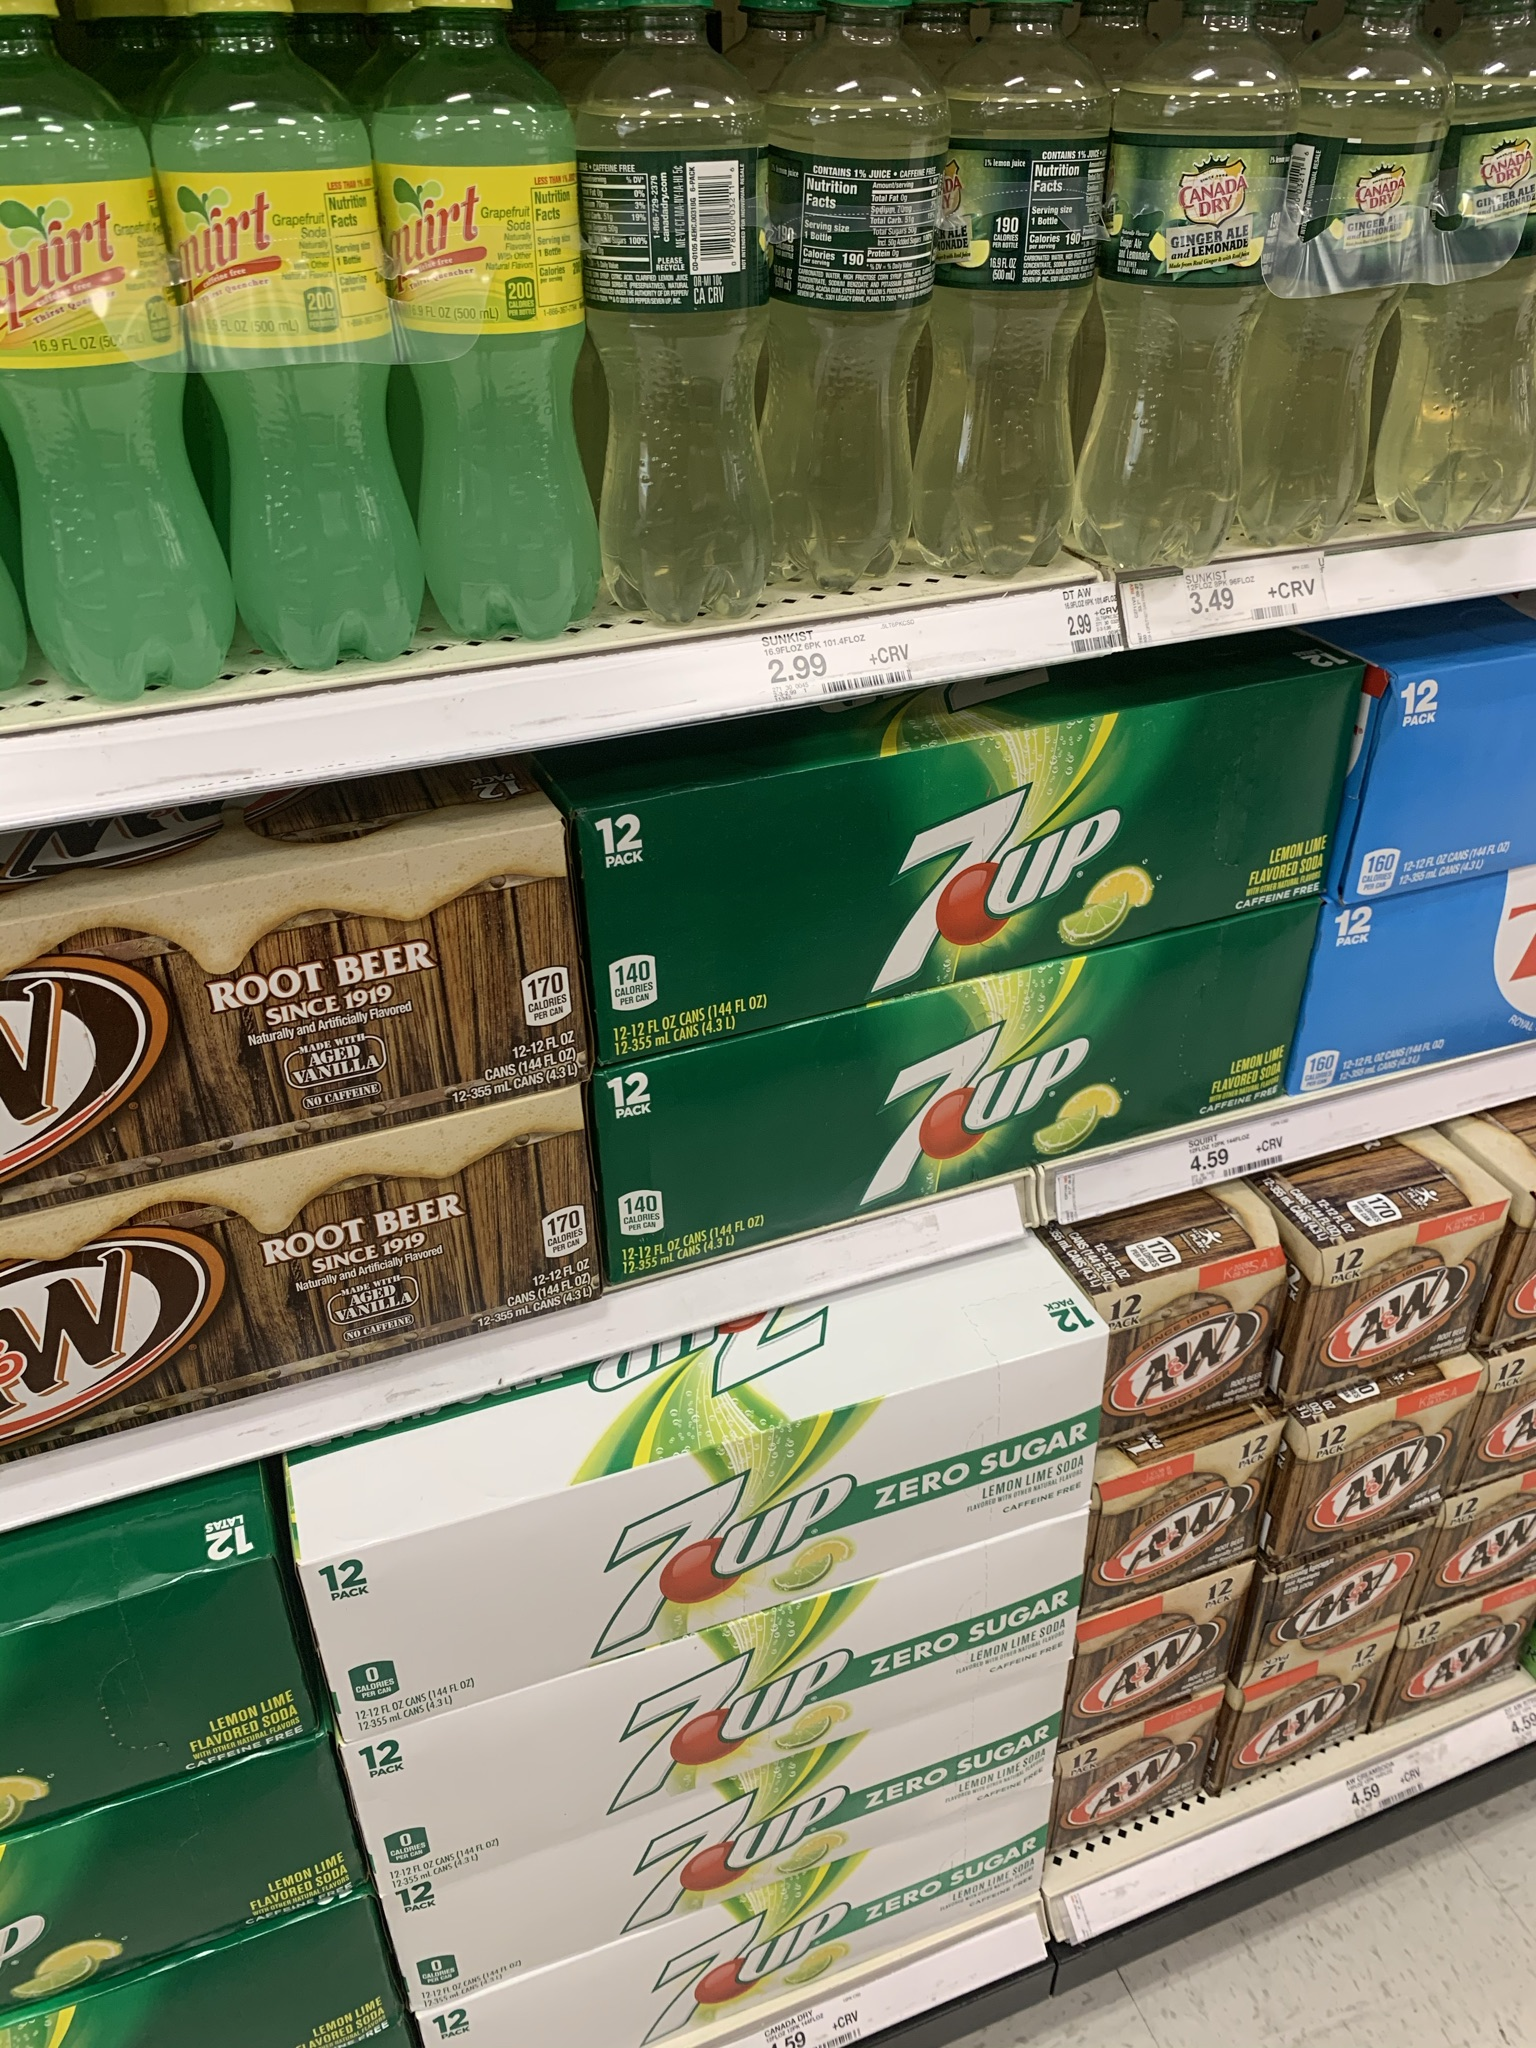7up soda: (279, 1506, 1108, 2001), (594, 1059, 1302, 1179), (597, 814, 1339, 926)
AW soda: (3, 897, 547, 1105), (2, 1193, 611, 1347), (1292, 1464, 1512, 1706), (1329, 1247, 1468, 1414), (1113, 1297, 1283, 1397)
canada dry soda: (607, 16, 783, 561), (962, 34, 1117, 540), (799, 31, 925, 574), (1158, 15, 1263, 605), (1309, 21, 1413, 556)
squirt soda: (182, 39, 444, 616), (3, 29, 237, 660), (411, 35, 623, 640)
